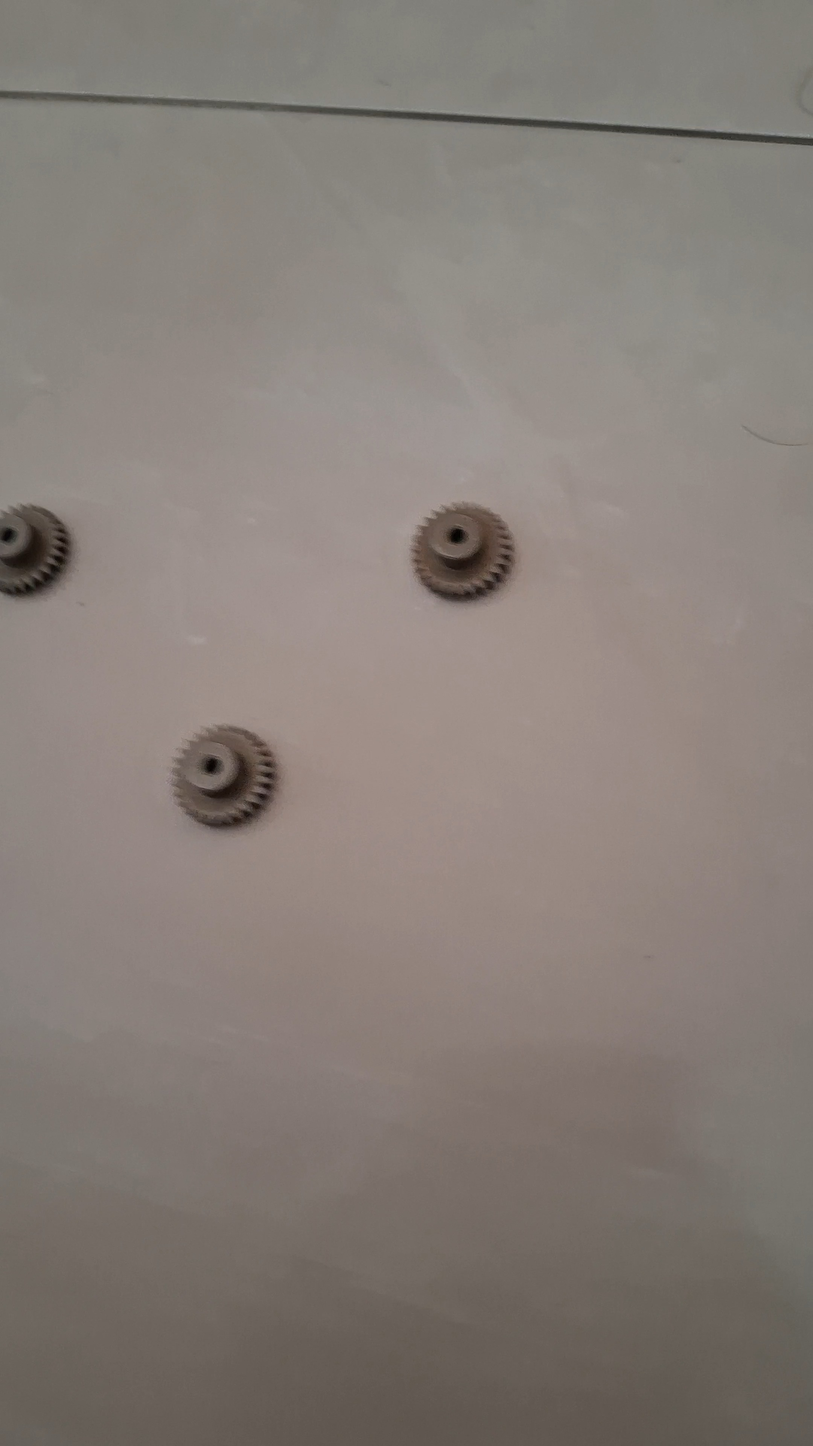spur gear: (172, 726, 276, 826), (412, 503, 514, 599), (0, 505, 69, 595)
